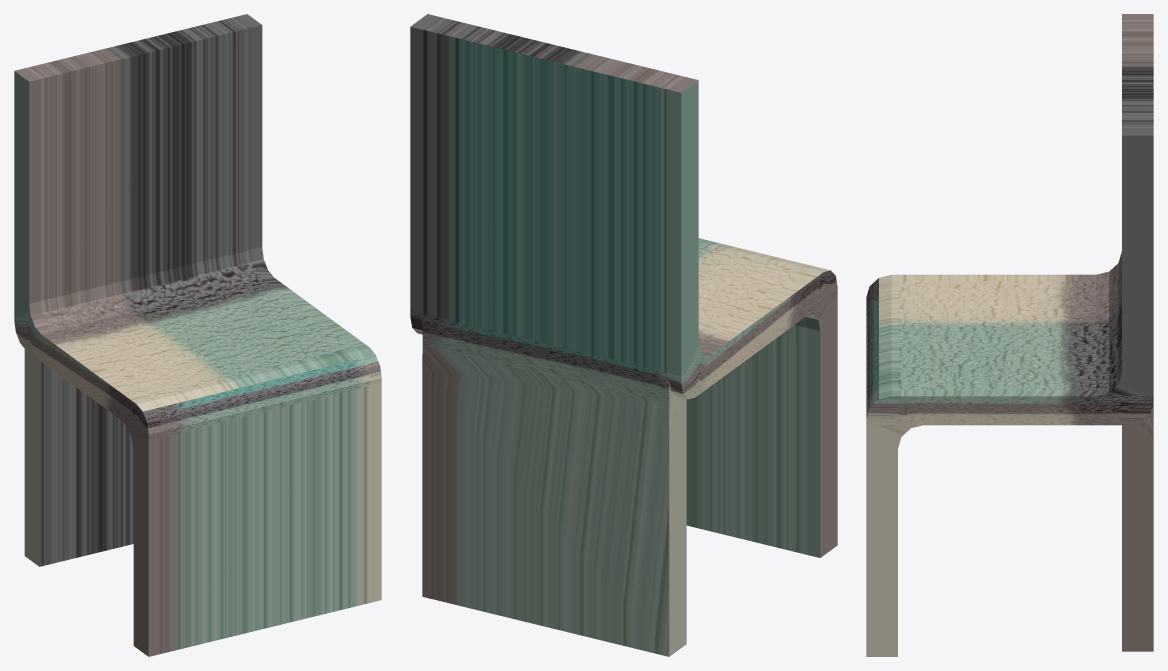
The model's file is sucess_chair2.glb.
3 renders of one model, left to right at view 1: azimuth 30°, elevation 25°; view 2: azimuth 150°, elevation 25°; view 3: azimuth 270°, elevation 25°, orthographic. The views are drawn at different scales.
Visible parts, largest first — view 1: Cube; view 2: Cube; view 3: Cube.
Boxes of the visible parts, x1,y1,x2,y2 form: Cube: (14,14,381,656); Cube: (410,14,837,656); Cube: (866,14,1153,656).
Size of the model in its own units: 0.6897 by 1.38 by 0.6897.
1 material, 1 textured.
